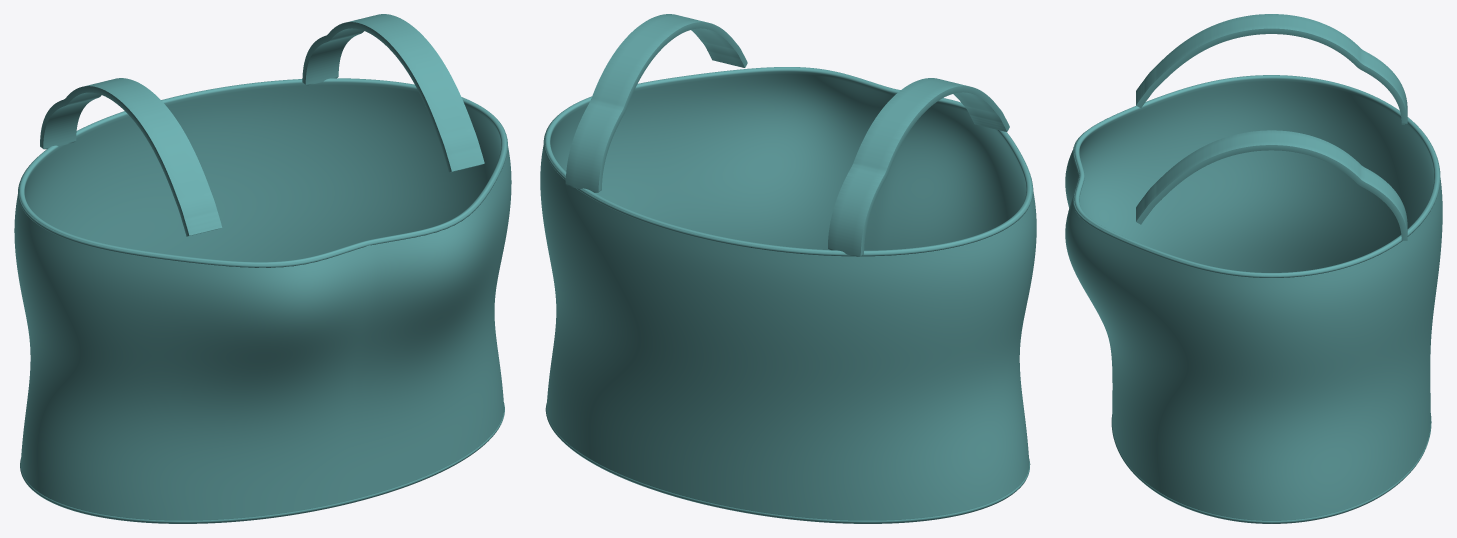
The model's file is Feminine-tank-top.glb.
3 renders of one model, left to right at view 1: azimuth 30°, elevation 25°; view 2: azimuth 150°, elevation 25°; view 3: azimuth 270°, elevation 25°, orthographic. The views are drawn at different scales.
Parts seen in each view (by area): view 1: Clothing / tank body, Clothing / tank shoulder strap -1, Clothing / tank shoulder strap 1, tank body stitched edge.001 export, tank body stitched edge export; view 2: Clothing / tank body, Clothing / tank shoulder strap 1, Clothing / tank shoulder strap -1, tank body stitched edge.001 export, tank body stitched edge export; view 3: Clothing / tank body, Clothing / tank shoulder strap -1, Clothing / tank shoulder strap 1, tank body stitched edge.001 export, tank body stitched edge export.
Boxes of the visible parts, x1=… form: Clothing / tank body: x1=14, y1=78, x2=511, y2=523; Clothing / tank shoulder strap -1: x1=40, y1=78, x2=222, y2=236; Clothing / tank shoulder strap 1: x1=302, y1=14, x2=484, y2=172; tank body stitched edge.001 export: x1=18, y1=115, x2=507, y2=267; tank body stitched edge export: x1=20, y1=403, x2=504, y2=523; Clothing / tank body: x1=540, y1=67, x2=1036, y2=523; Clothing / tank shoulder strap 1: x1=565, y1=14, x2=747, y2=192; Clothing / tank shoulder strap -1: x1=828, y1=78, x2=1009, y2=256; tank body stitched edge.001 export: x1=543, y1=119, x2=1033, y2=256; tank body stitched edge export: x1=545, y1=403, x2=1030, y2=523; Clothing / tank body: x1=1065, y1=75, x2=1442, y2=523; Clothing / tank shoulder strap -1: x1=1136, y1=14, x2=1407, y2=124; Clothing / tank shoulder strap 1: x1=1136, y1=130, x2=1407, y2=240; tank body stitched edge.001 export: x1=1073, y1=122, x2=1440, y2=277; tank body stitched edge export: x1=1111, y1=413, x2=1431, y2=523.
Size of the model in its own units: 0.7237 by 0.5726 by 0.5672.
